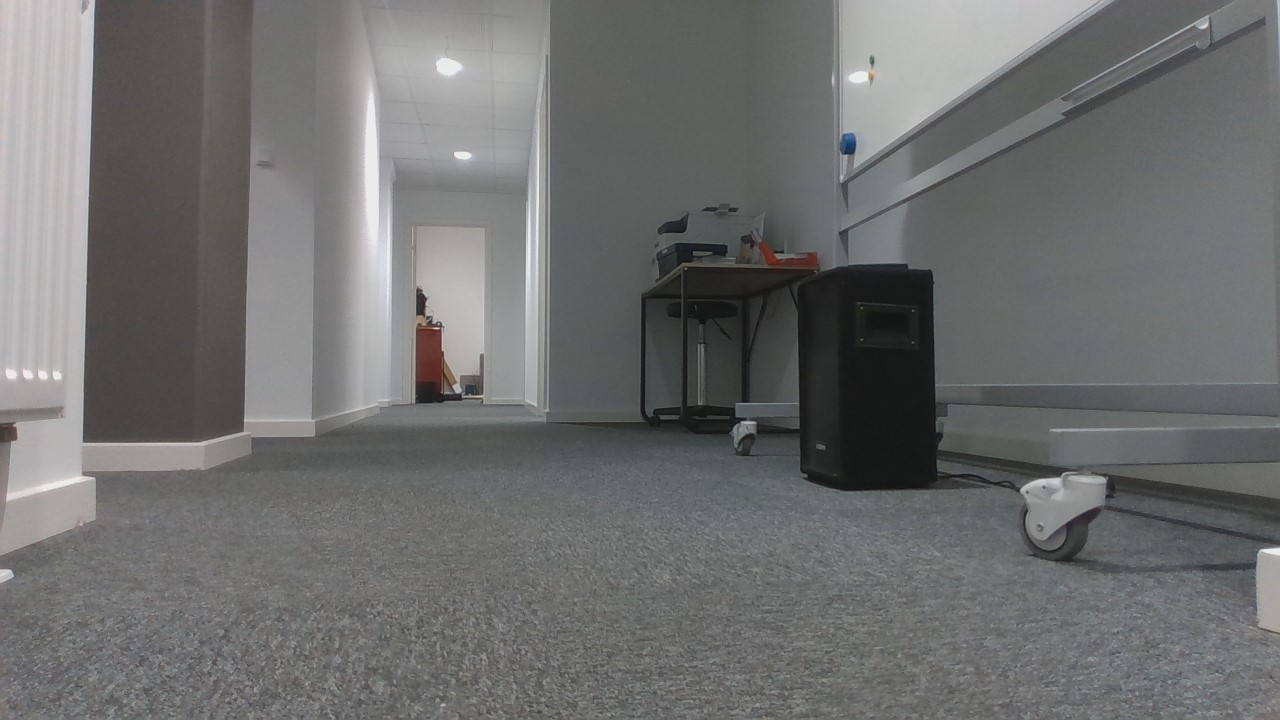alfa: (836, 132, 857, 153)
